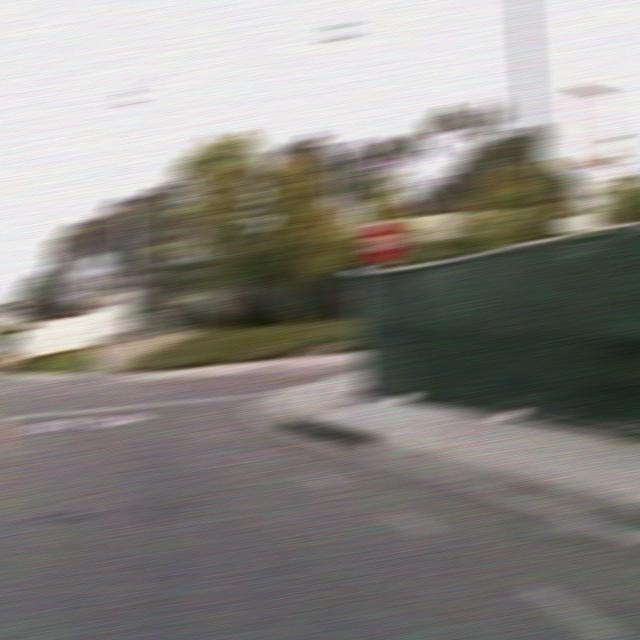stop_sign: (361, 221, 406, 266)
